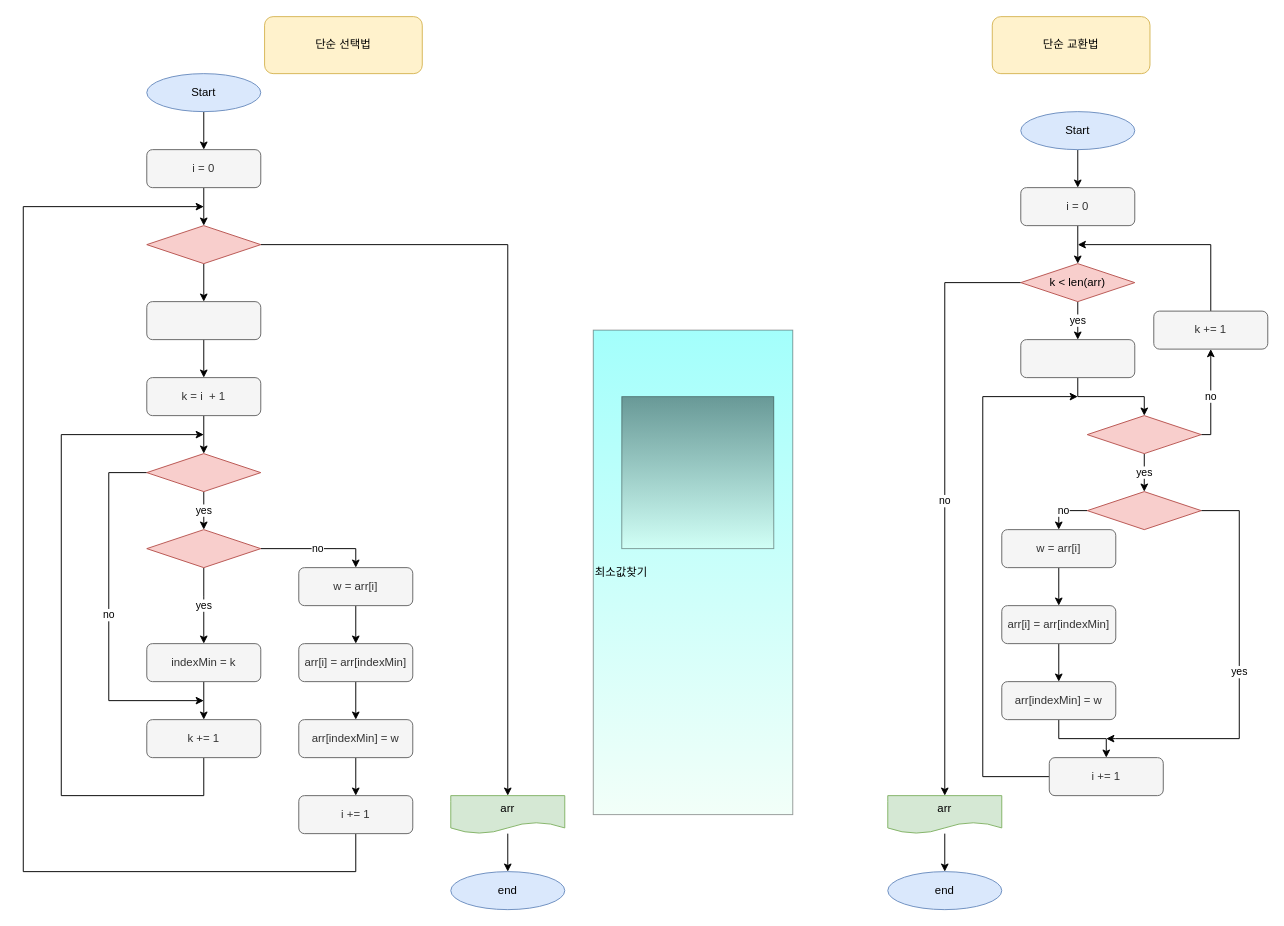
The diagram is 1284 pixels wide and 926 high, and some of its shapes have lost their labels. The shapes that lost their labels are listed below. From the top down, each one's centre as x and y in pixels, then its label:
At point (203, 244): "i < len(arr)".
At point (203, 320): "indexMin = i".
At point (1077, 358): "i = len(arr)".
At point (1143, 434): "i > k".
At point (203, 472): "arr[k] < len(arr)".
At point (697, 472): "교환처리".
At point (1143, 510): "arr[i-1] < arr[i]".
At point (203, 548): "arr[k] < arr[indexmin]".
